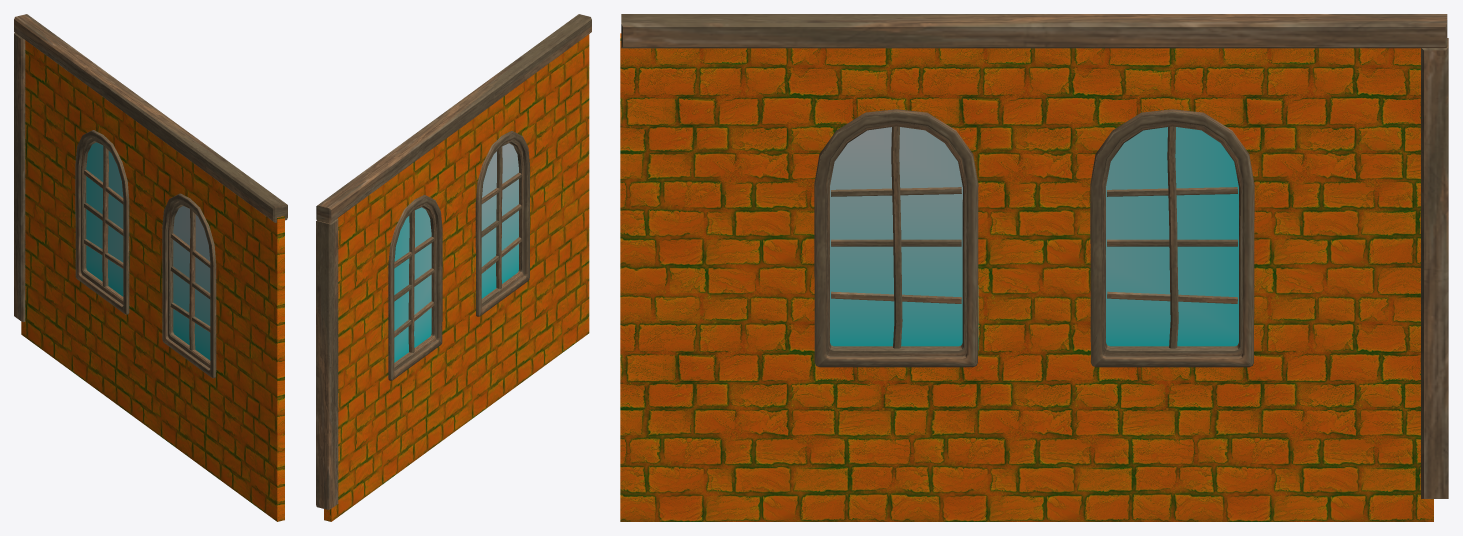
The model's file is SM_wall_08.fbx.
3 views of the same model, side by side, from view 1: azimuth 30°, elevation 25°; view 2: azimuth 150°, elevation 25°; view 3: azimuth 270°, elevation 25° (orthographic). The views are drawn at different scales.
Visible parts, largest first — view 1: SM_wall_08_LOD0; view 2: SM_wall_08_LOD0; view 3: SM_wall_08_LOD0.
Part boxes in pixels (x1,y1,x2,y2): SM_wall_08_LOD0: [14, 14, 287, 521]; SM_wall_08_LOD0: [316, 14, 591, 521]; SM_wall_08_LOD0: [620, 14, 1448, 521].
Bounding box in the file's own units: 20 × 600 × 400.
